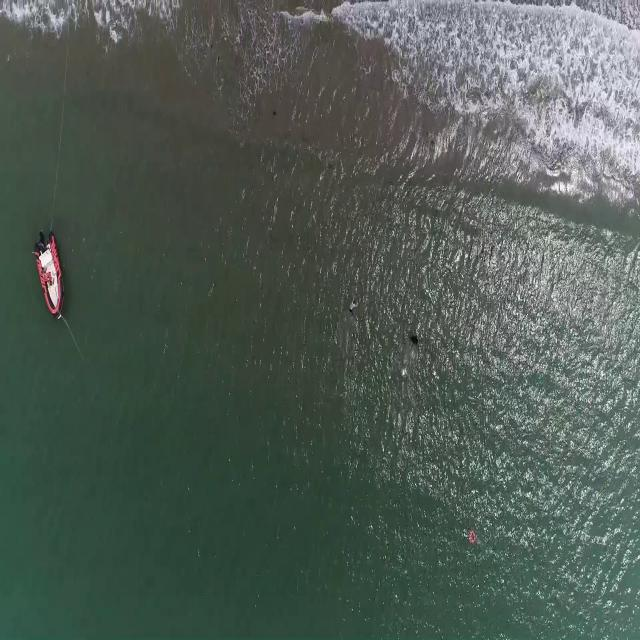boat: (34, 229, 64, 318)
life_buoy: (468, 528, 477, 543)
person: (349, 293, 362, 317), (410, 329, 419, 348)
